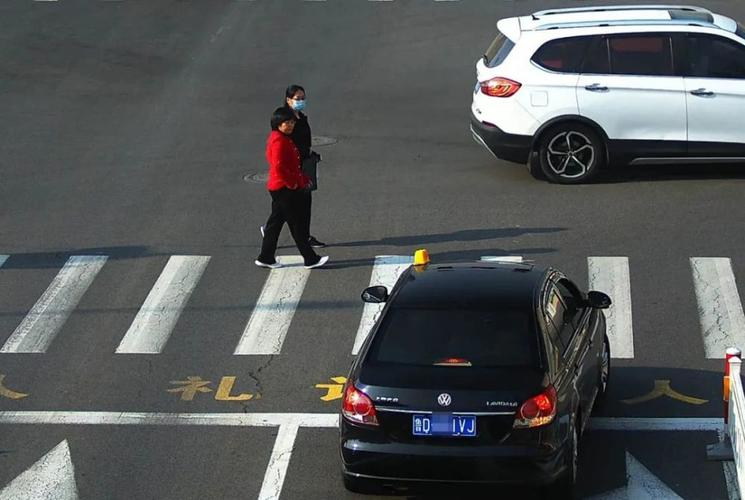car: (333, 250, 615, 499), (467, 5, 744, 184)
person: (254, 97, 331, 270), (269, 82, 322, 244)
